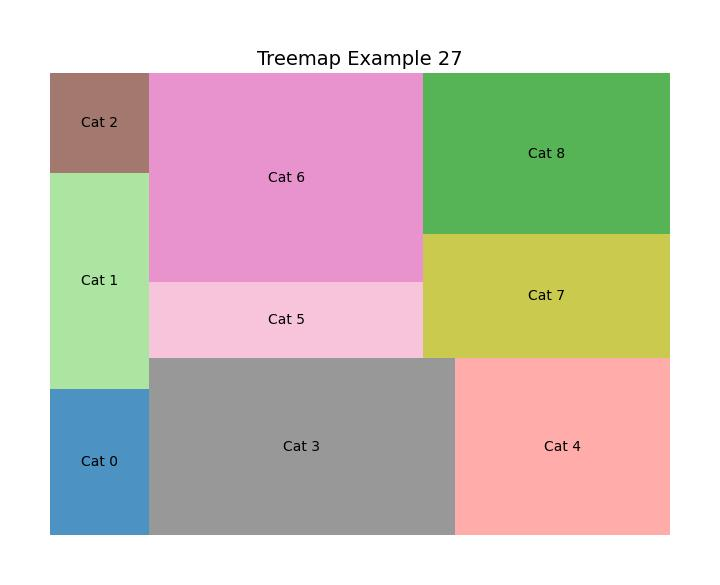rectangle: (151, 72, 422, 281), (150, 357, 455, 532), (421, 72, 669, 235), (454, 357, 670, 534), (421, 236, 669, 359), (50, 172, 149, 389), (152, 281, 422, 358), (50, 392, 149, 534), (52, 73, 149, 172)
